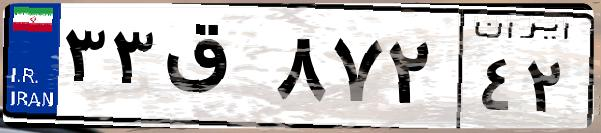2: (385, 28, 445, 110), (525, 38, 570, 115)
3: (57, 26, 110, 100), (110, 28, 158, 98)
4: (475, 38, 525, 113)
7: (330, 28, 385, 110)
8: (270, 28, 330, 110)
ق: (158, 20, 270, 120)
